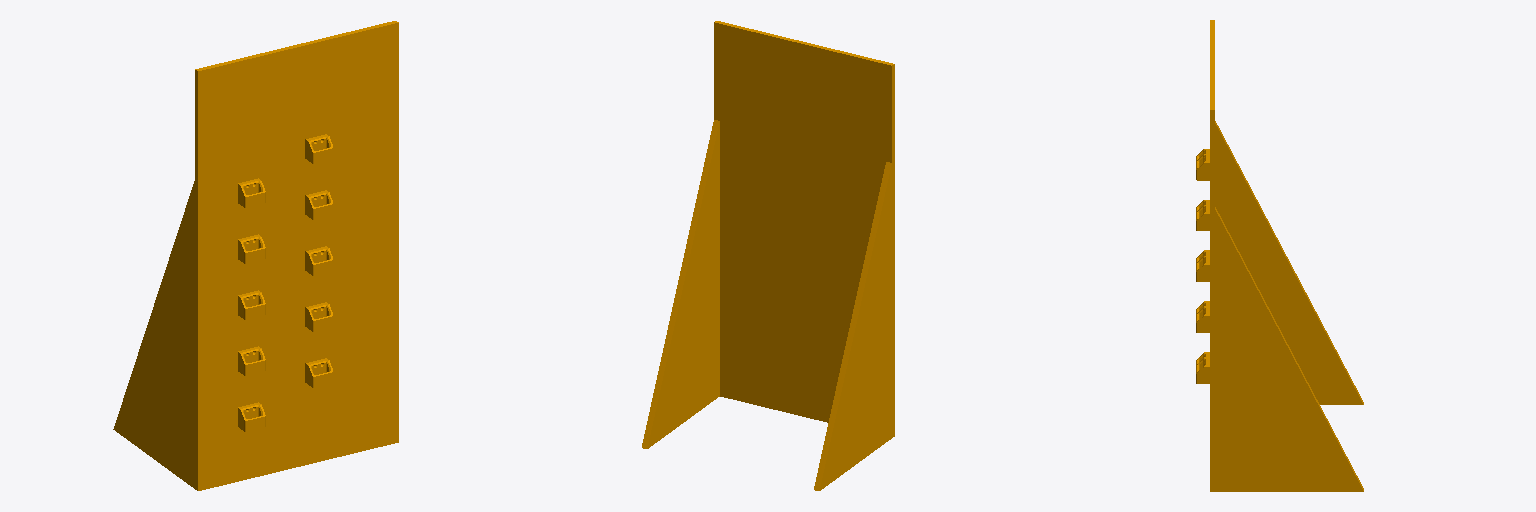
robot.urdf — climbing_wall:
<?xml version="1.0"?>
<robot name="climbing_wall">
  <pose>1.0 2.0 0.5 0 0 1.57</pose> 
  <link name="wall_link">
    <visual>
      <geometry>
        <mesh filename="package://climbbot3_gz/models/climbing_wall/climbing_wall.stl" scale="1 1 1"/>
      </geometry>
    </visual>
    <collision>
      <geometry>
        <mesh filename="package://climbbot3_gz/models/climbing_wall/climbing_wall.stl" scale="1 1 1"/>
      </geometry>
    </collision>
    <inertial>
      <mass value="1.0"/>
      <origin xyz="0 0 0"/>
      <inertia ixx="1" ixy="0" ixz="0" iyy="1" iyz="0" izz="1"/>
    </inertial>
  </link>
  <static>true</static>
</robot>

--- Facts derived from the render (not from the file) ---
Views: 3 orthographic renders of the robot side by side, from view 1: azimuth 30°, elevation 25°; view 2: azimuth 150°, elevation 25°; view 3: azimuth 270°, elevation 25°.
Robot: climbing_wall — 1 links, 0 joints (none); root link wall_link; default pose: all joints at 0.
Links seen in each view (by area): view 1: wall_link; view 2: wall_link; view 3: wall_link.
Link boxes in pixels (x1=…): wall_link: x1=113, y1=21, x2=398, y2=490; wall_link: x1=642, y1=21, x2=894, y2=490; wall_link: x1=1196, y1=20, x2=1363, y2=491.
Bounding box of the posed robot: 0.762 × 0.6069 × 1.52 m (x, y, z).
1 mesh visuals loaded from 1 distinct referenced files (1 binary STL).